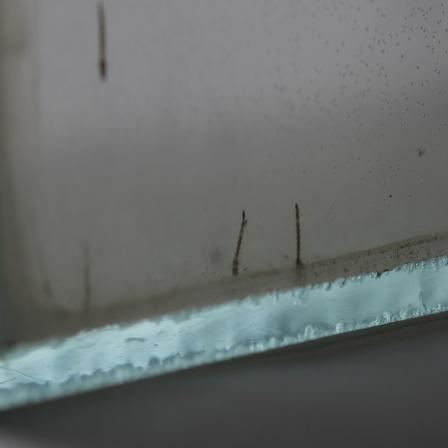Jentik-Nyamuk: (286, 199, 310, 271), (229, 207, 251, 277)
